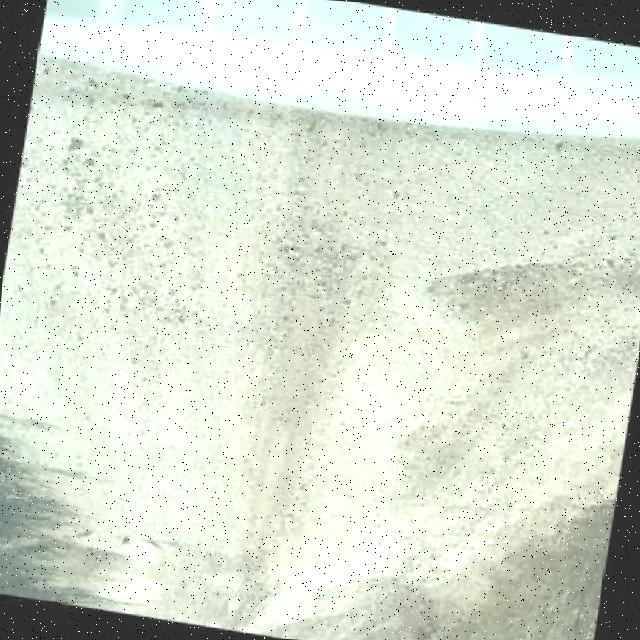Pothole: (418, 257, 605, 326)
